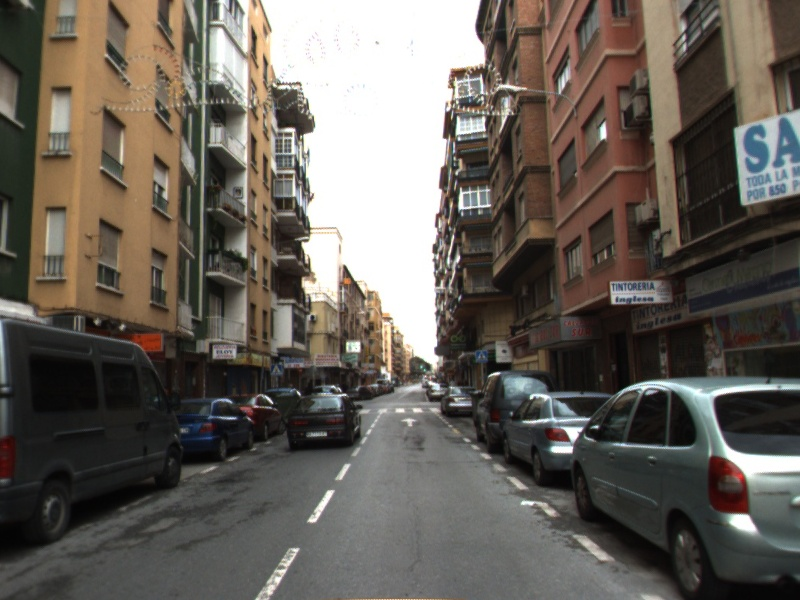STRAIGHT: (399, 416, 420, 428)
